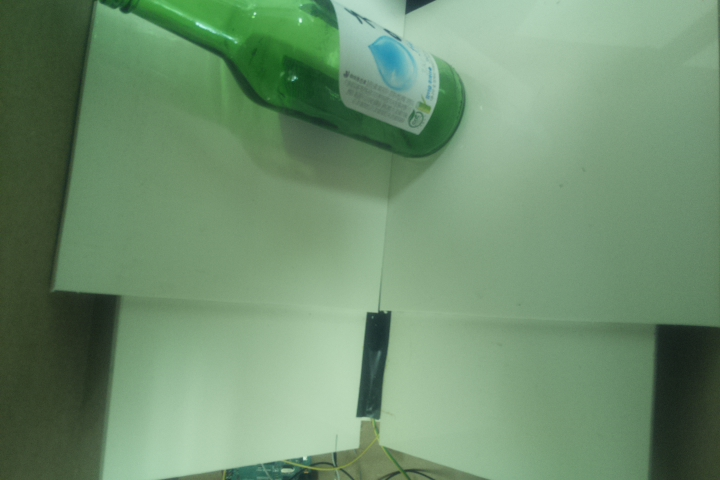soju: (96, 1, 471, 161)
